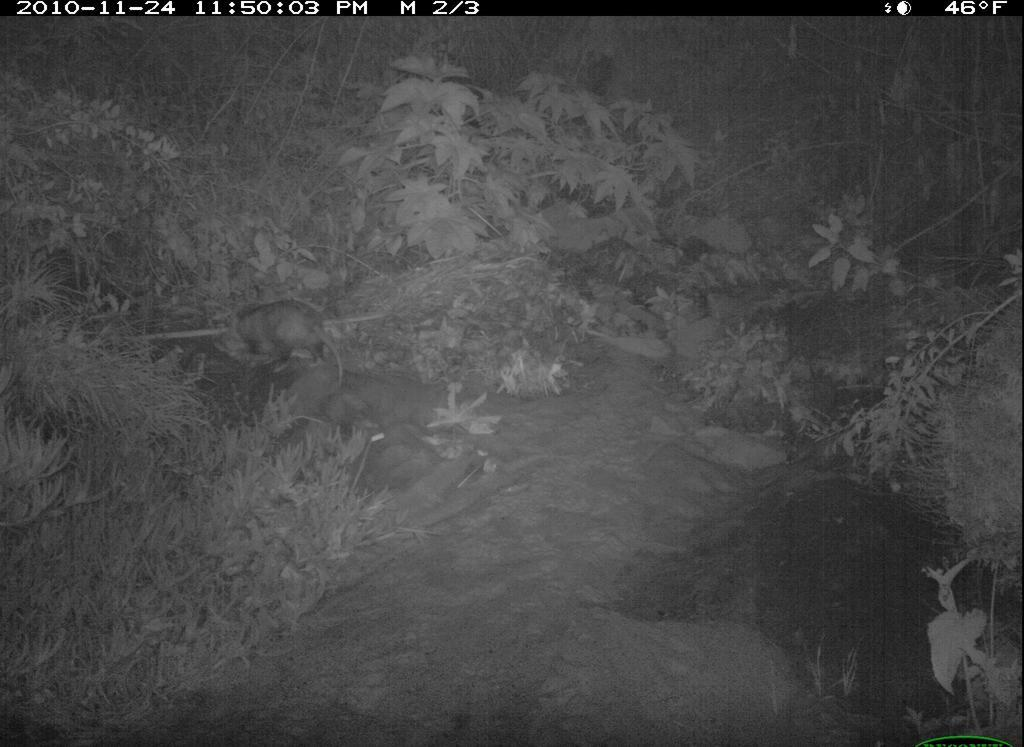opossum: (205, 294, 361, 393)
